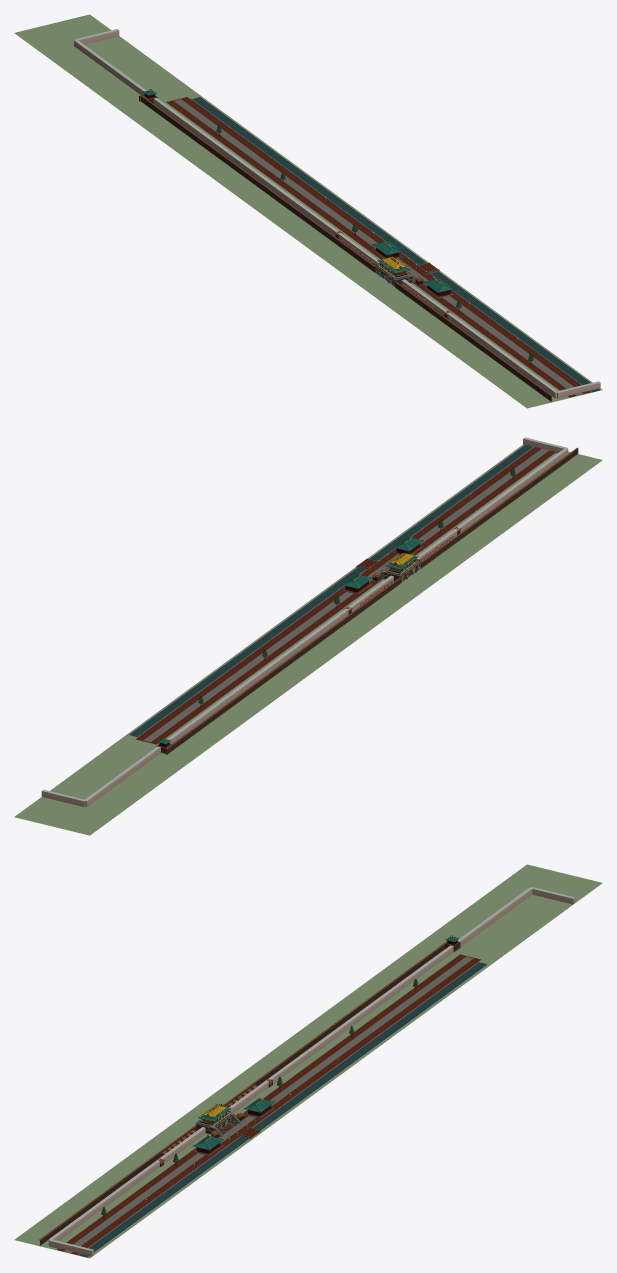
The model's file is T13_cua_chuong_duc_tay_ht.glb.
3 renders of one model, top to bottom at view 1: azimuth 30°, elevation 25°; view 2: azimuth 150°, elevation 25°; view 3: azimuth 330°, elevation 25°, orthographic.
Visible parts, largest first — view 1: T13_V2_Satellite_Seamless_Base, T13_StaticArchitecture_Root; view 2: T13_V2_Satellite_Seamless_Base, T13_StaticArchitecture_Root; view 3: T13_V2_Satellite_Seamless_Base, T13_StaticArchitecture_Root.
Part boxes in pixels (bbox=[...]): T13_V2_Satellite_Seamless_Base: bbox=[14, 14, 602, 408]; T13_StaticArchitecture_Root: bbox=[139, 90, 599, 401]; T13_V2_Satellite_Seamless_Base: bbox=[14, 437, 602, 835]; T13_StaticArchitecture_Root: bbox=[129, 445, 578, 754]; T13_V2_Satellite_Seamless_Base: bbox=[14, 864, 602, 1258]; T13_StaticArchitecture_Root: bbox=[38, 936, 486, 1257].
Bounding box in the file's own units: 54.8 × 13.94 × 642.
Materials: 22 (4 with a texture image).
